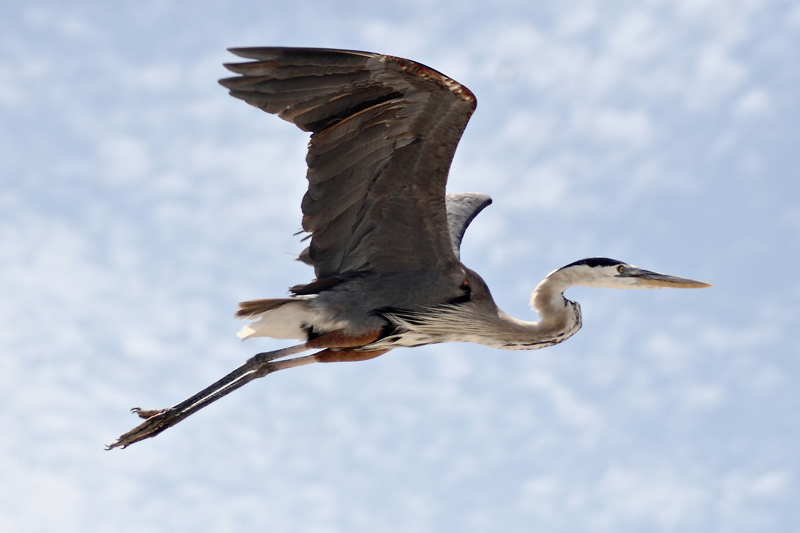heron: (101, 34, 714, 473)
